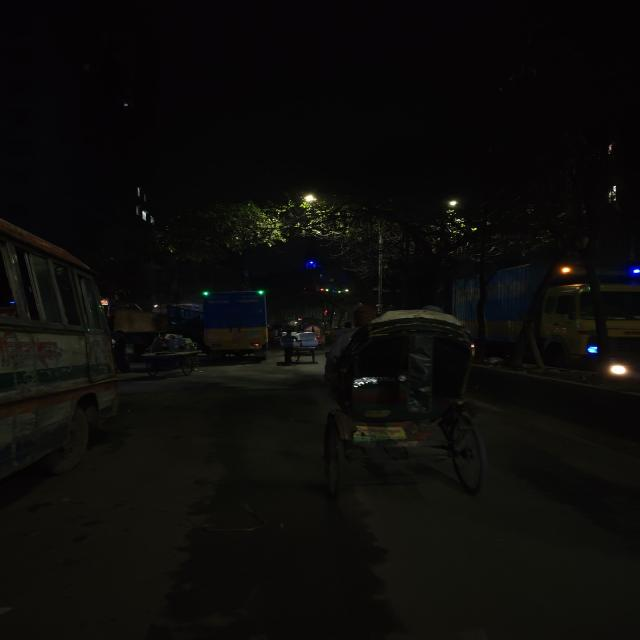bus: (1, 154, 125, 474)
pedestrian: (277, 330, 299, 366)
rickshaw: (314, 304, 492, 497), (138, 329, 206, 379)
truck: (499, 266, 640, 380), (196, 288, 275, 362)
